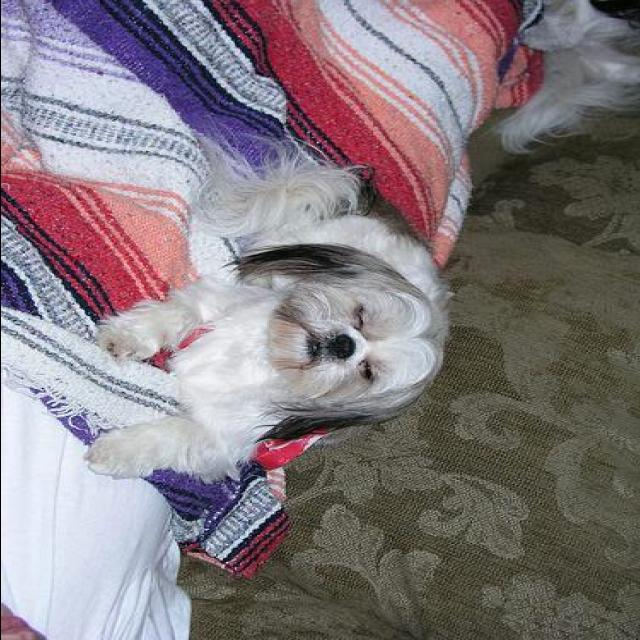shih_tzu: (82, 128, 454, 482)
